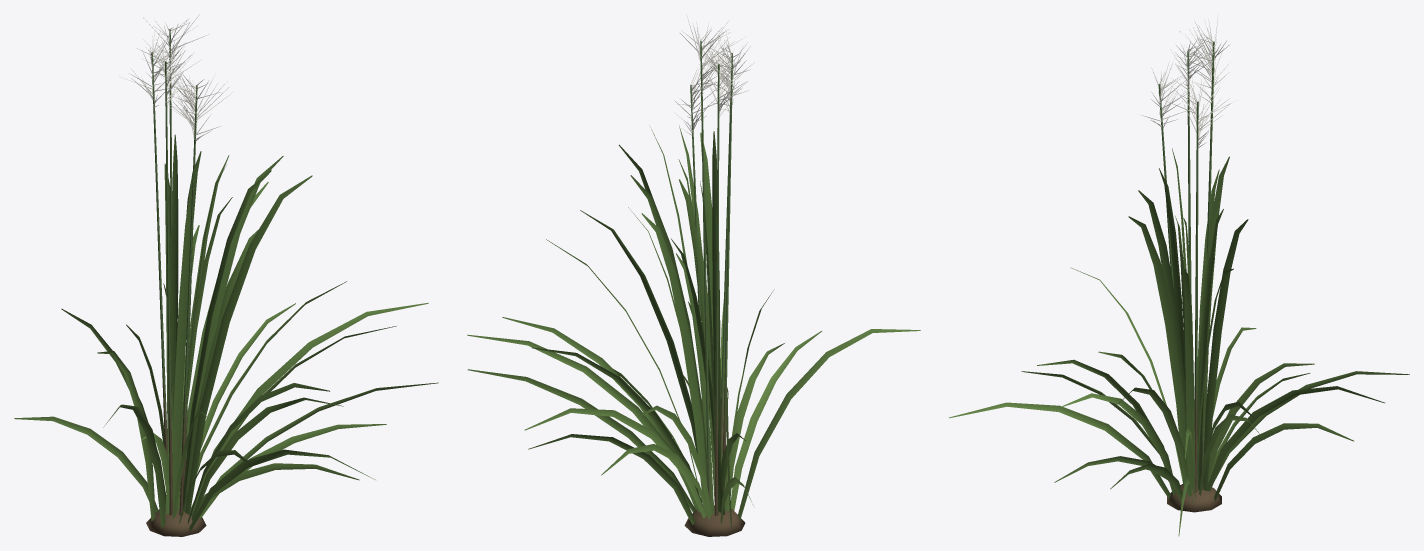
The model's file is FountainGrass_lod1.glb.
The picture shows the model from 3 angles, left to right: view 1: azimuth 30°, elevation 25°; view 2: azimuth 150°, elevation 25°; view 3: azimuth 270°, elevation 25°; orthographic projection. The views are drawn at different scales.
Parts seen in each view (by area): view 1: Plant_LOD1; view 2: Plant_LOD1; view 3: Plant_LOD1.
Part boxes in pixels (x1=…): Plant_LOD1: x1=14, y1=14, x2=438, y2=536; Plant_LOD1: x1=467, y1=14, x2=920, y2=536; Plant_LOD1: x1=949, y1=15, x2=1409, y2=536.
Bounding box in the file's own units: 0.6961 × 0.8548 × 0.7476.
